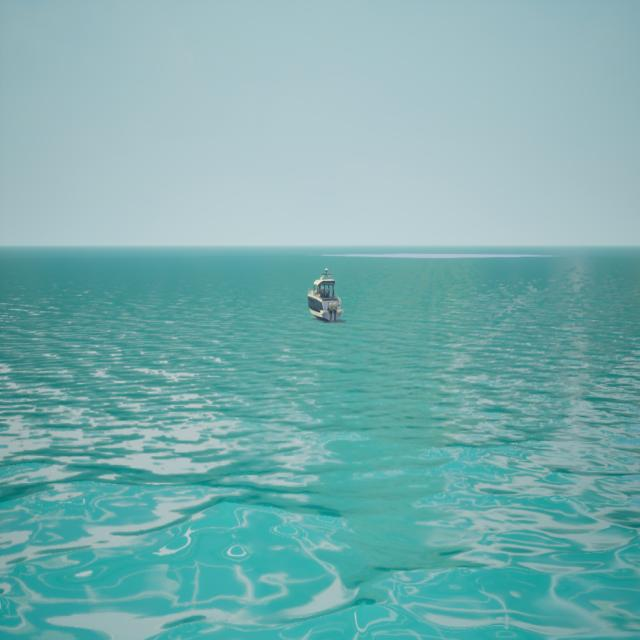ship: (306, 266, 344, 320)
